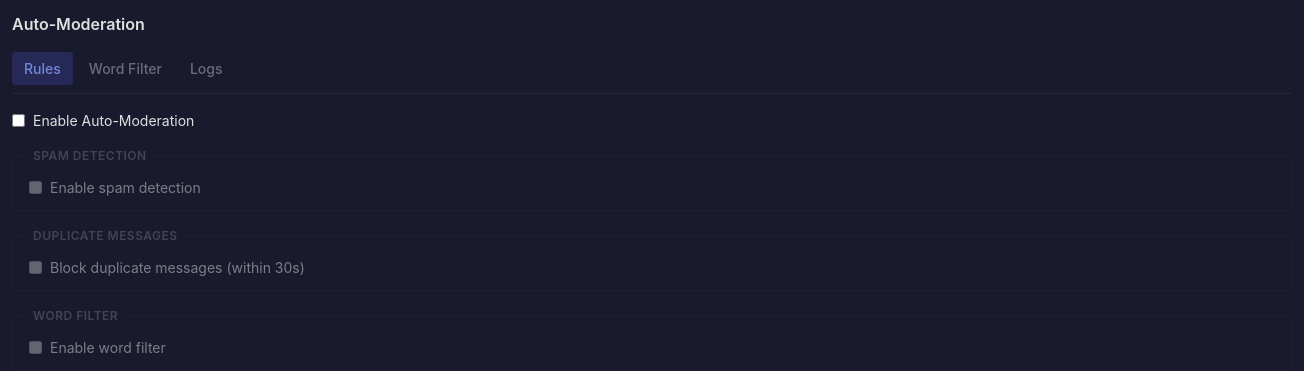
Scenario: AutomodSettings › adds a word filter
The image size is (1304, 371).
Check: the heading "Auto-Moderation" is shown, box [12,14,145,34]
Click the button "Word Filter": (125, 68) [77,52,174,85]
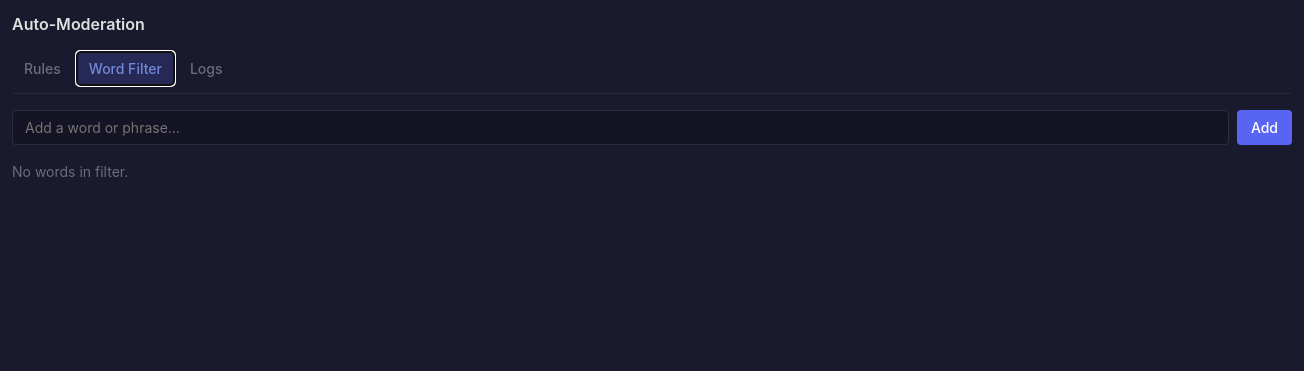
In the field with placeholder "Add a word or phrase…": (620, 128) [12,110,1229,145], type "badword"
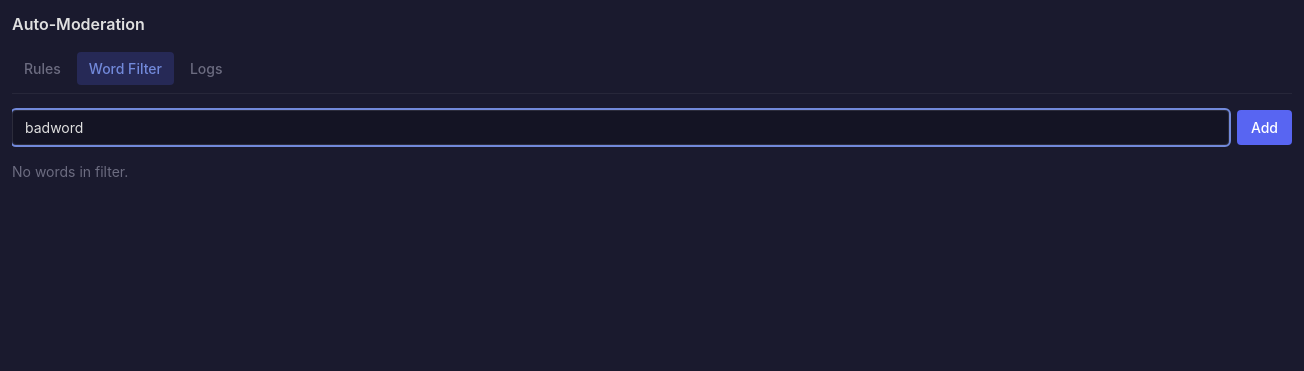
Click the button "Add": (1264, 128) [1237,110,1292,145]
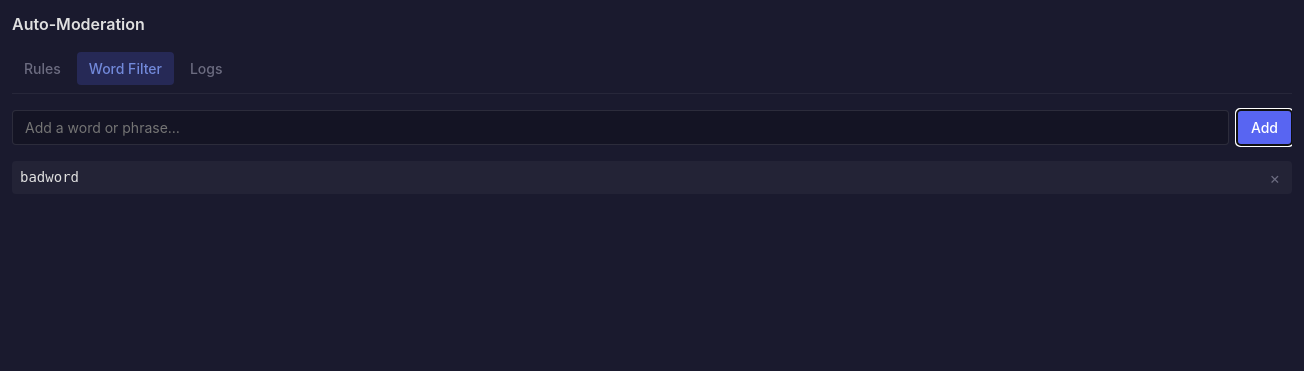
Check: the text "badword" is shown, box [20,167,79,188]
